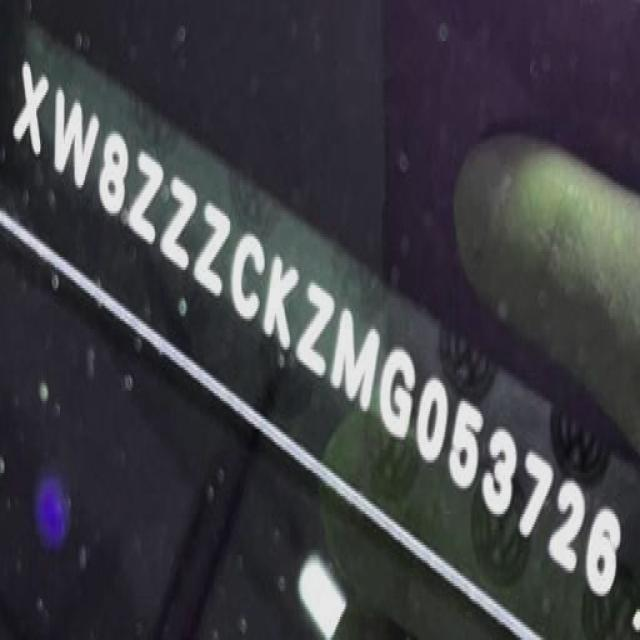0: (414, 378, 449, 471)
2: (550, 477, 584, 579)
3: (483, 427, 516, 520)
5: (449, 402, 483, 491)
6: (586, 502, 620, 600)
7: (516, 443, 556, 543)
8: (99, 121, 127, 226)
C: (230, 234, 266, 328)
G: (378, 337, 415, 444)
K: (265, 252, 301, 362)
M: (332, 314, 380, 417)
W: (52, 80, 98, 192)
X: (13, 47, 50, 168)
Z: (195, 194, 232, 307), (158, 175, 200, 270), (298, 278, 336, 381), (130, 139, 161, 250)
